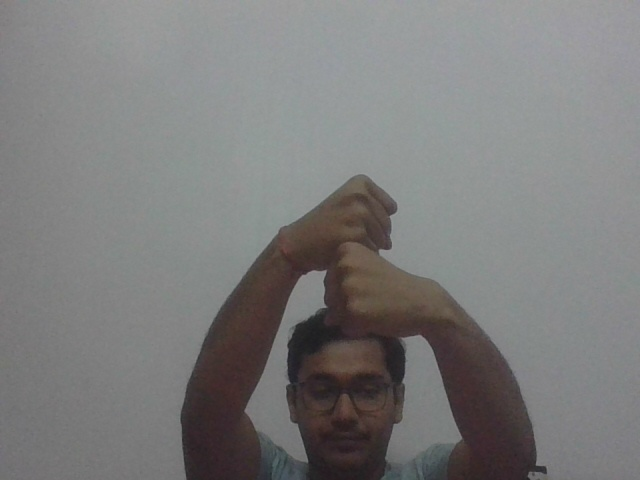G: (289, 165, 424, 343)
